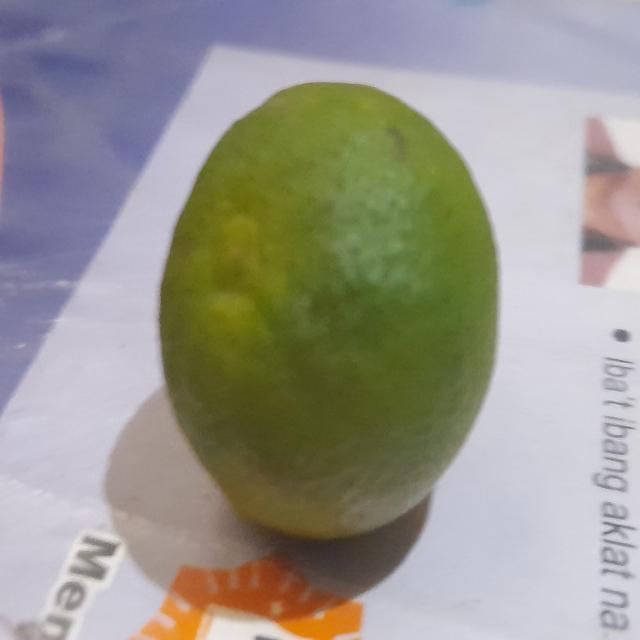heathy: (154, 77, 507, 557)
